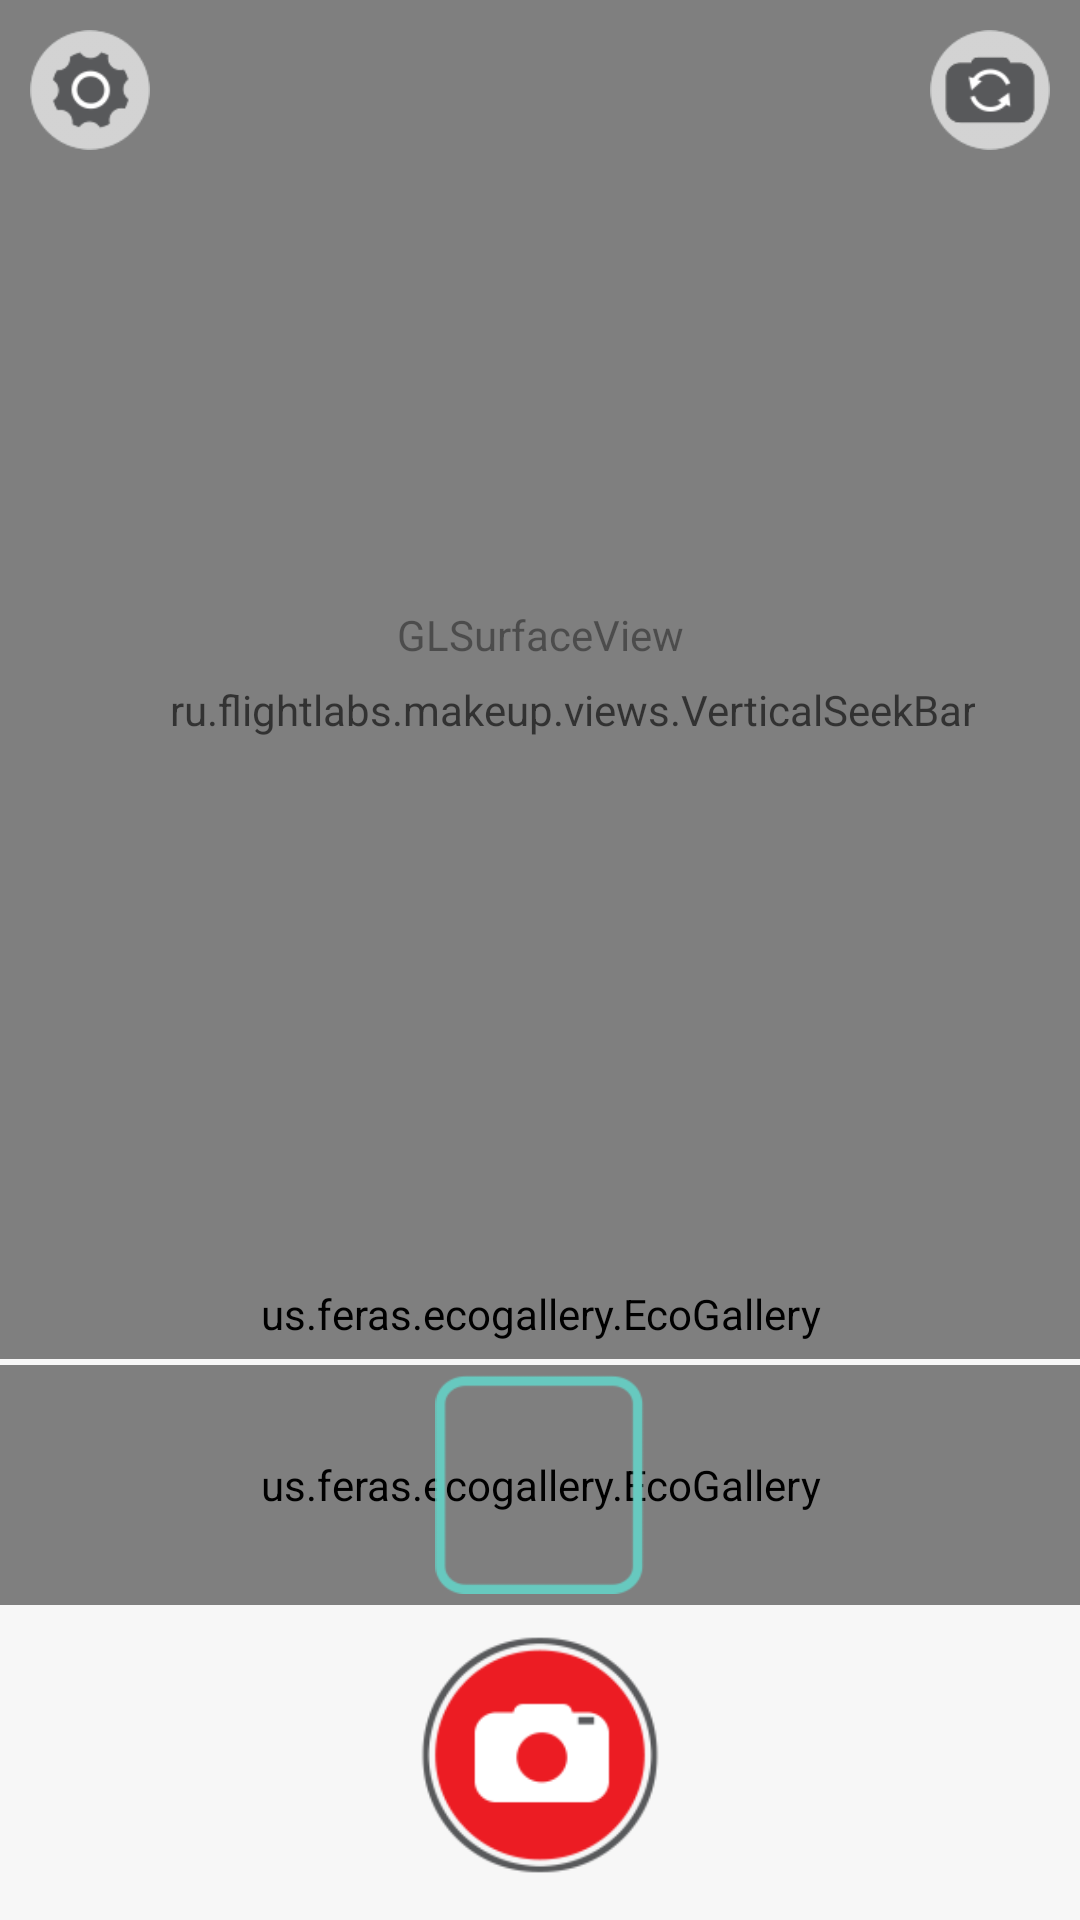

Where to tap for icons on this 1080x1920 app screen, as [x,y]:
photo: [540,1755]
rotate camera: [990,90]
settings: [90,90]
